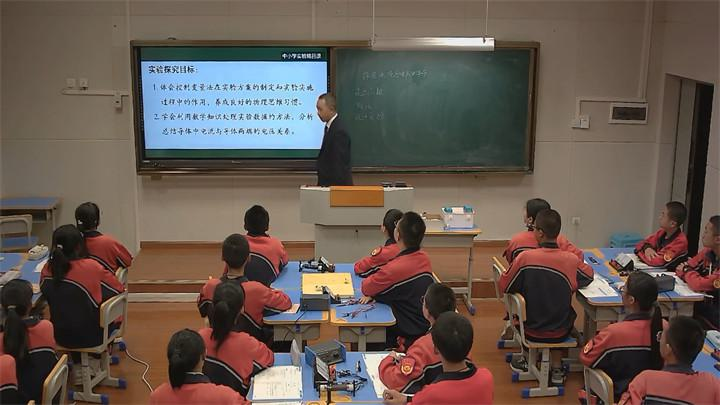listen: (428, 311, 496, 398), (210, 279, 253, 378), (657, 308, 708, 391), (163, 327, 211, 404), (43, 221, 84, 309), (528, 206, 569, 294), (78, 186, 127, 257), (617, 267, 656, 354), (245, 198, 290, 273), (1, 273, 44, 345), (390, 207, 428, 287), (647, 192, 682, 255), (216, 231, 251, 290), (698, 205, 720, 292)
